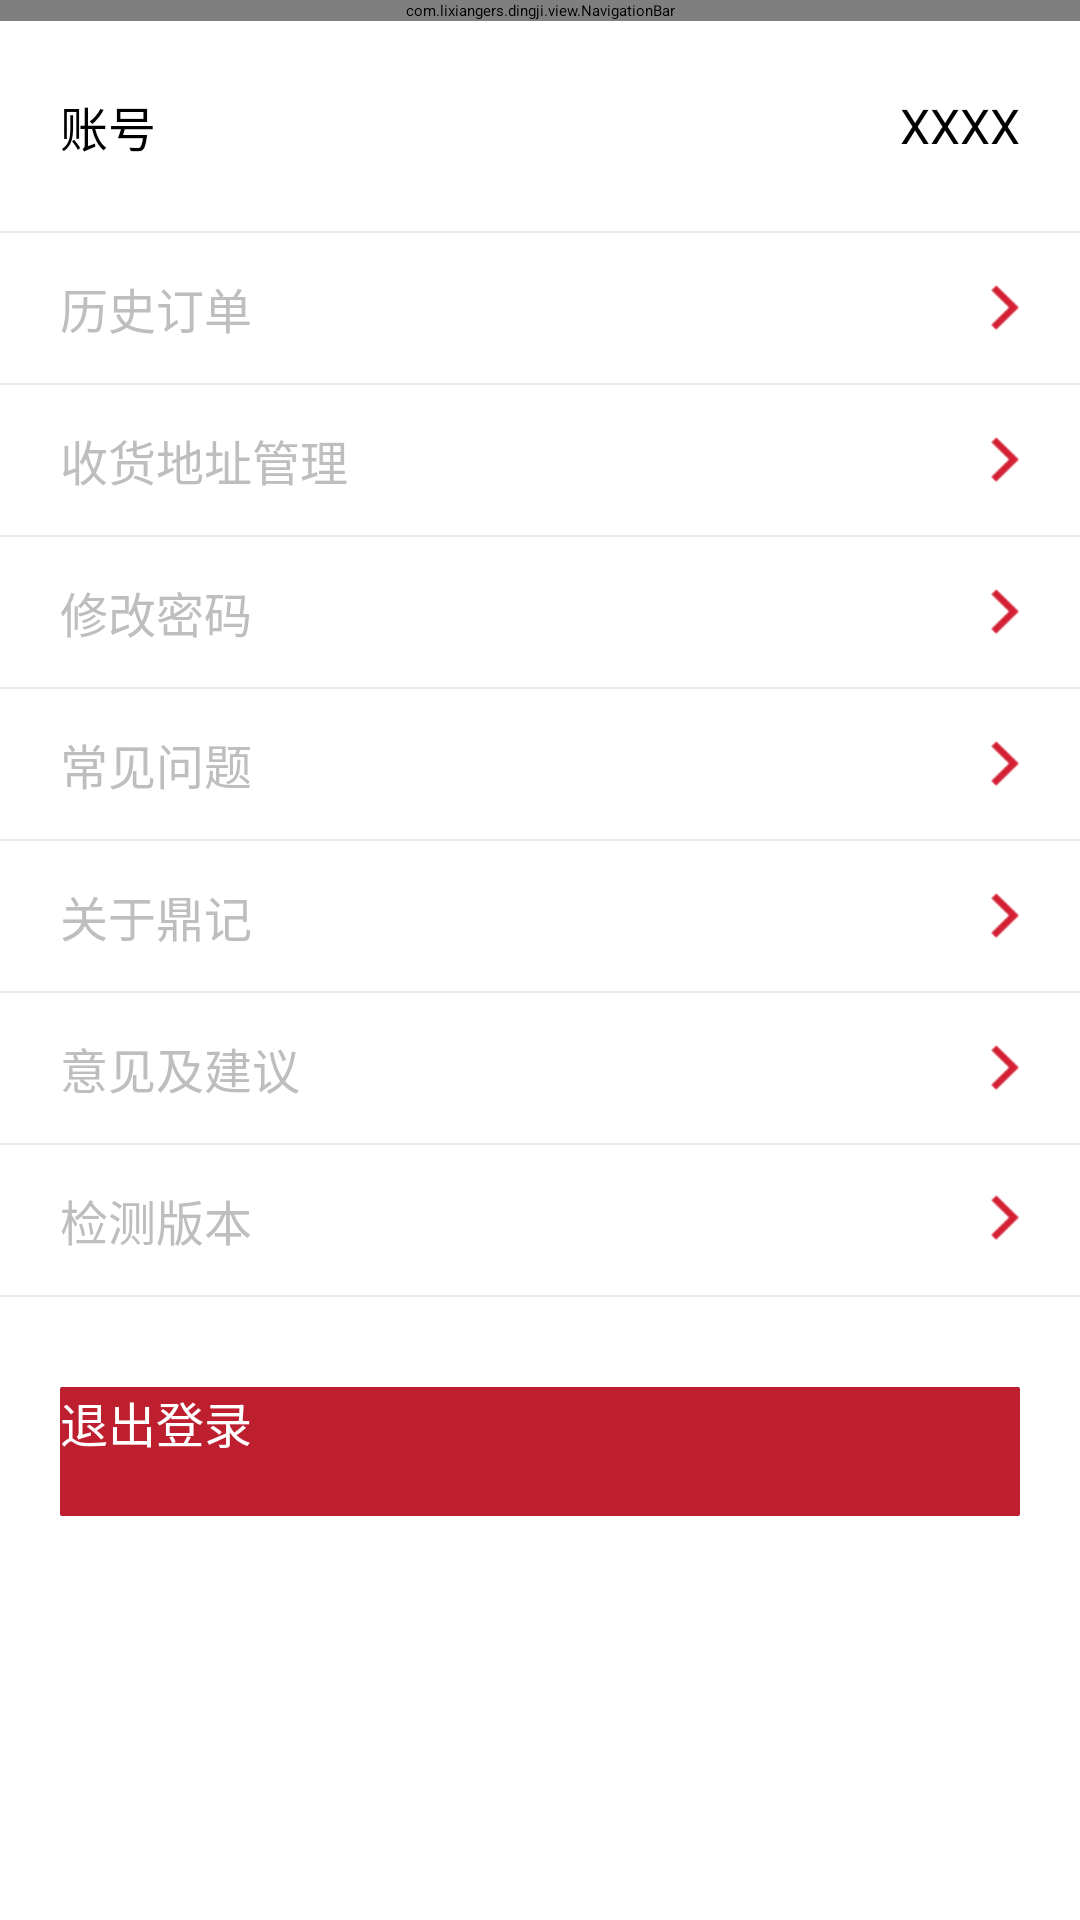

Where to tap for icons on this 1080x1920 app screen, as (x=x, y=y):
arrow right: (x=1005, y=307), (x=1005, y=459), (x=1005, y=611), (x=1005, y=763), (x=1005, y=915), (x=1005, y=1067), (x=1005, y=1217)
